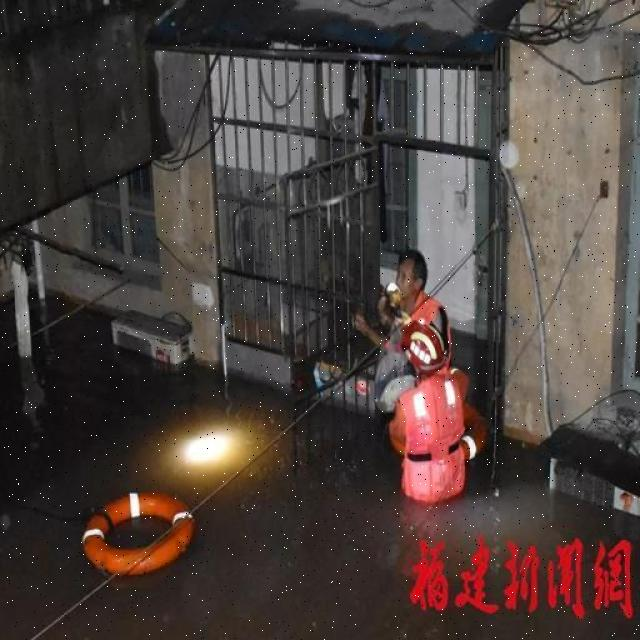rescuer: (390, 318, 492, 534)
